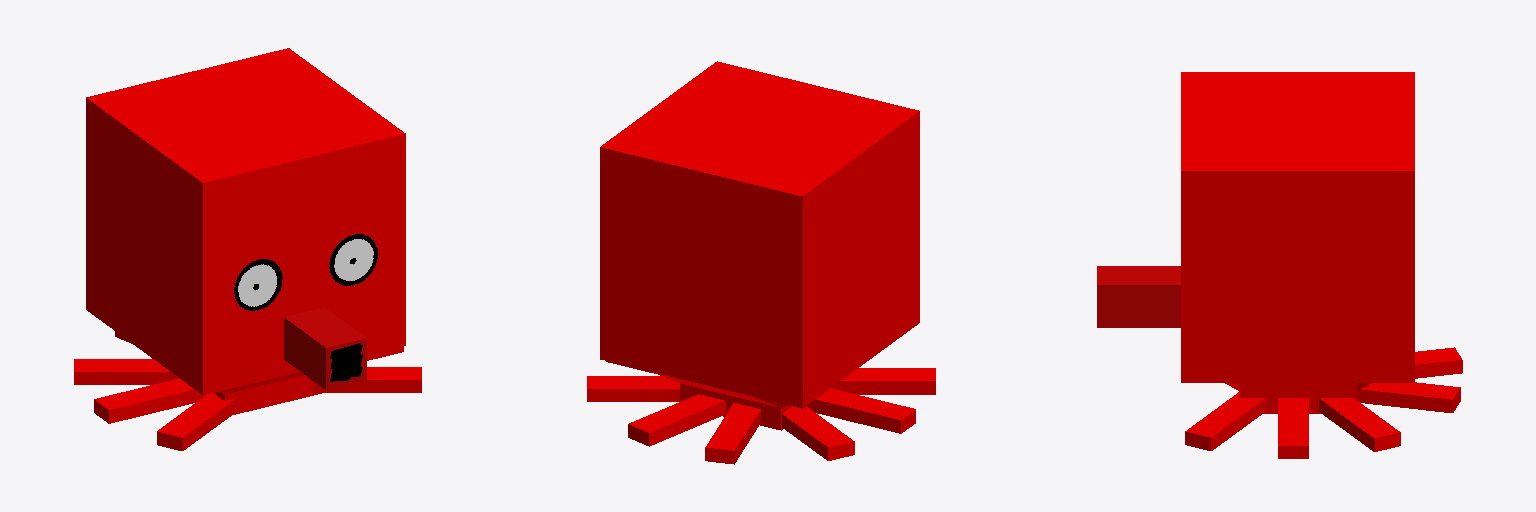
3 views of the same model, side by side, from view 1: azimuth 30°, elevation 25°; view 2: azimuth 150°, elevation 25°; view 3: azimuth 270°, elevation 25° (orthographic).
Parts seen in each view (by area): view 1: タコ足, タコ頭; view 2: タコ足, タコ頭; view 3: タコ足, タコ頭.
Part boxes in pixels (left/top/right/bottom): タコ足: left=86, top=48, right=405, bottom=414; タコ頭: left=74, top=331, right=421, bottom=450; タコ足: left=600, top=61, right=919, bottom=430; タコ頭: left=587, top=361, right=935, bottom=464; タコ足: left=1097, top=72, right=1414, bottom=413; タコ頭: left=1185, top=347, right=1462, bottom=458.
Size of the model in its own units: 1.13 by 0.9759 by 1.21.
1 materials, 1 textured.